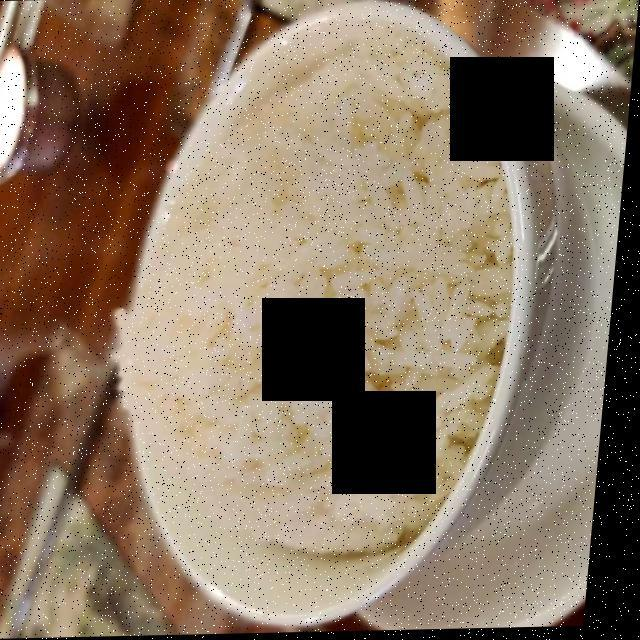rice: (142, 59, 513, 551)
